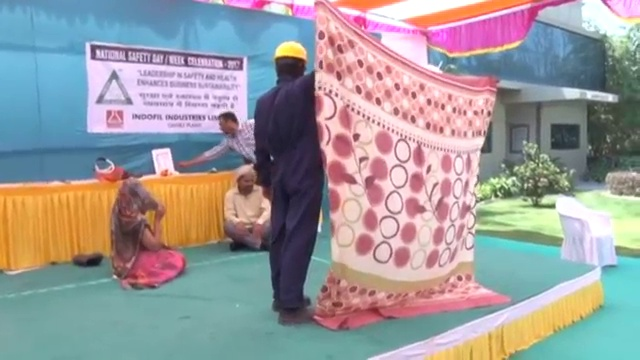helmet: (273, 39, 308, 65)
helmet_off: (121, 177, 147, 206), (236, 164, 258, 196), (218, 112, 241, 136)
helmet_on: (272, 37, 309, 84)
person: (253, 37, 329, 330), (103, 176, 187, 291), (169, 107, 268, 167), (216, 163, 278, 250)
